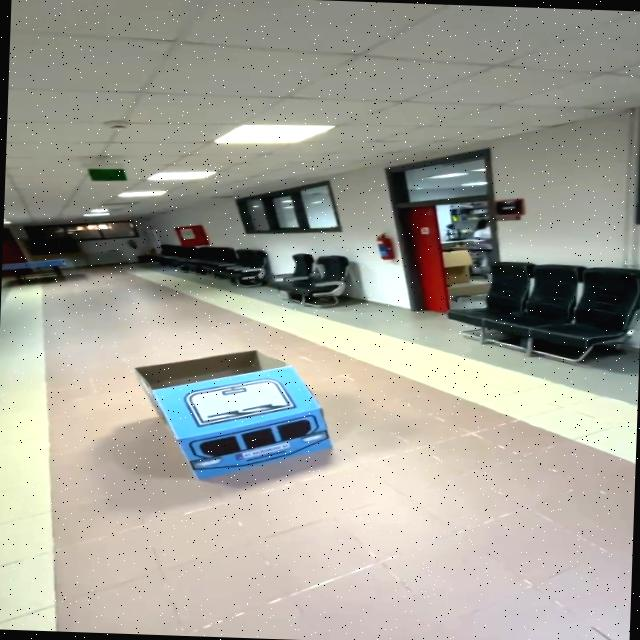blue_car: (104, 338, 373, 491)
